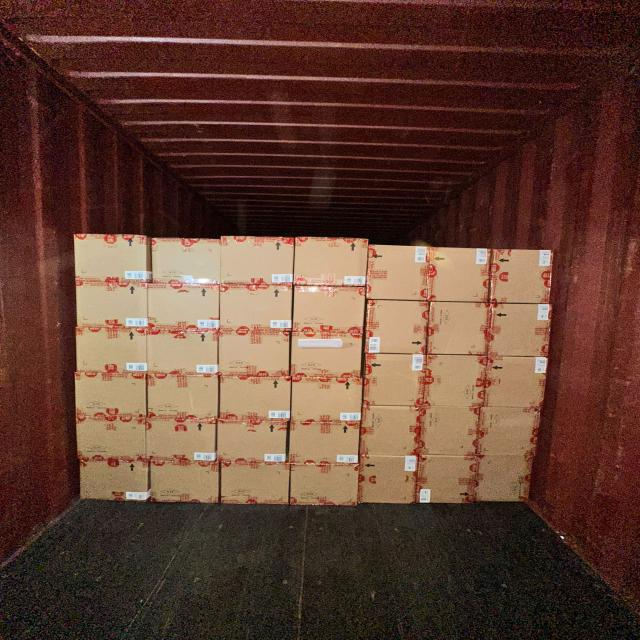Carton: (365, 242, 431, 302), (72, 235, 149, 285), (424, 353, 489, 410), (427, 246, 492, 303), (289, 330, 363, 380), (362, 353, 428, 408), (481, 354, 548, 408), (145, 285, 220, 333), (486, 304, 550, 360), (75, 326, 148, 375), (75, 279, 148, 328), (223, 238, 296, 287), (297, 239, 369, 288), (217, 330, 290, 378), (357, 404, 423, 457), (289, 375, 363, 422), (145, 329, 219, 376), (74, 411, 148, 458), (364, 299, 426, 355), (490, 249, 552, 305), (293, 287, 365, 335), (222, 283, 295, 330), (150, 239, 220, 288), (476, 405, 540, 458), (429, 302, 489, 358), (415, 454, 478, 507), (149, 416, 221, 462), (146, 373, 219, 418), (215, 418, 288, 463), (76, 370, 149, 415), (218, 375, 290, 420), (288, 422, 360, 467), (78, 459, 149, 504), (473, 453, 535, 504), (289, 465, 360, 509), (426, 355, 484, 408), (218, 466, 289, 509), (359, 456, 418, 507), (420, 406, 480, 456), (150, 463, 219, 505)
